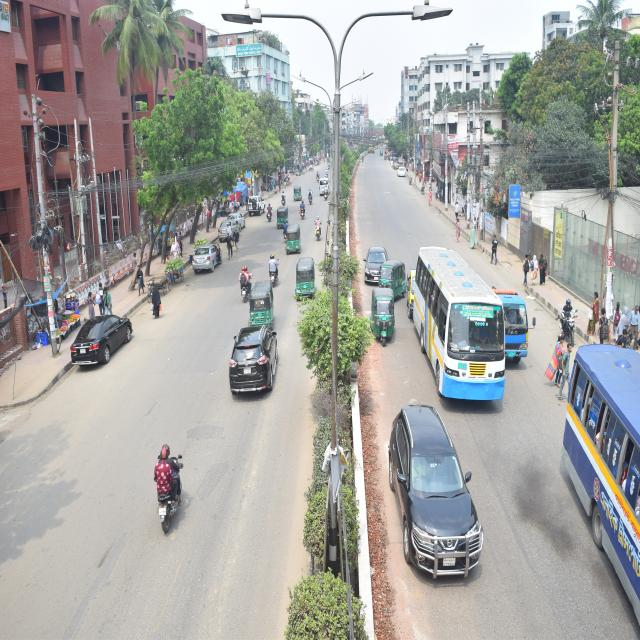bus: (546, 330, 640, 620), (416, 240, 505, 411)
car: (384, 386, 508, 595), (66, 287, 153, 386), (221, 310, 298, 406), (186, 233, 226, 280), (364, 236, 392, 293), (243, 182, 265, 222), (396, 163, 413, 185)
motorbike: (147, 426, 194, 540), (232, 256, 259, 311), (262, 240, 283, 292), (314, 211, 327, 250), (306, 188, 320, 208), (296, 200, 310, 218), (280, 182, 289, 209), (321, 183, 332, 200), (266, 198, 272, 228), (312, 168, 322, 182)
pickup-van: (404, 254, 424, 322)
truck: (488, 284, 540, 365)
